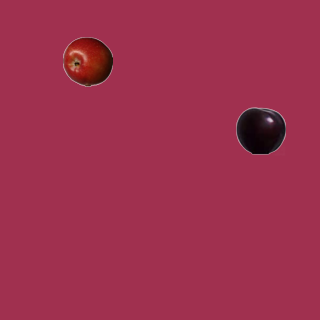Apple Braeburn: (62, 36, 112, 86)
Cherry Wax Black: (235, 105, 285, 155)
